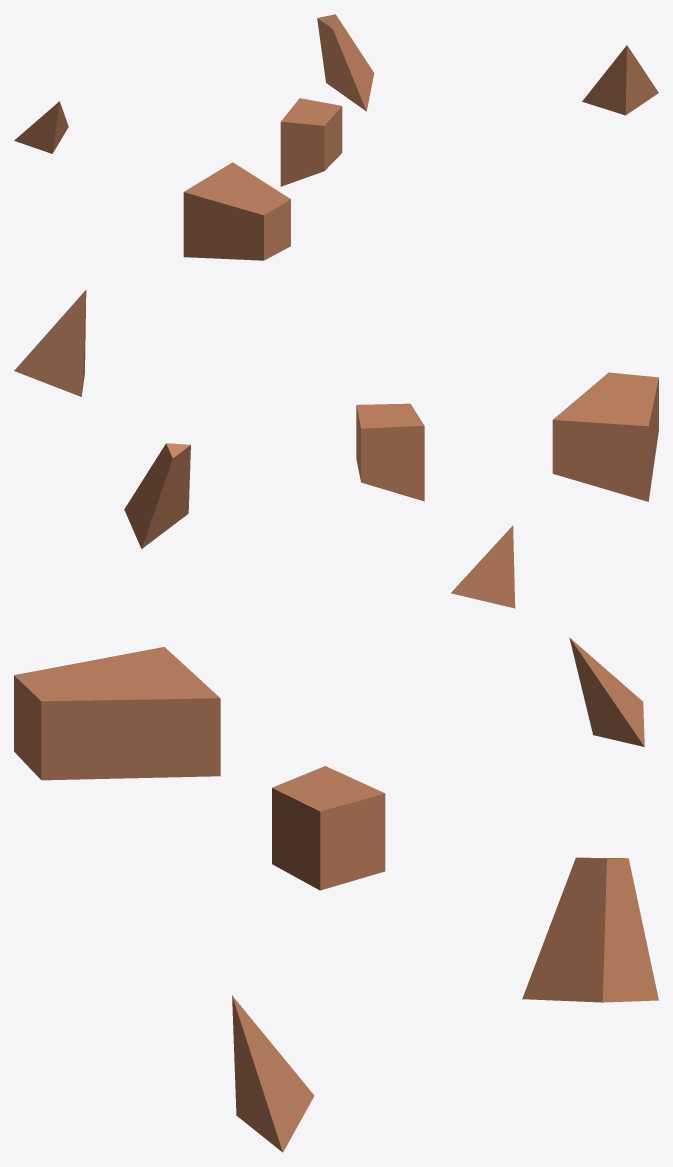
File: Brick_Pile_s_03.fbx
3 renders of one model, top to bottom at view 1: azimuth 30°, elevation 25°; view 2: azimuth 150°, elevation 25°; view 3: azimuth 270°, elevation 25°, orthographic. The views are drawn at different scales.
Parts seen in each view (by area): view 1: Brick_Pile_s_03; view 2: Brick_Pile_s_03; view 3: Brick_Pile_s_03.
Part boxes in pixels (left/top/right/bottom): Brick_Pile_s_03: left=14, top=14, right=658, bottom=260; Brick_Pile_s_03: left=14, top=290, right=658, bottom=608; Brick_Pile_s_03: left=14, top=637, right=658, bottom=1152.
Size of the model in its own units: 47.32 by 7.41 by 29.17.
